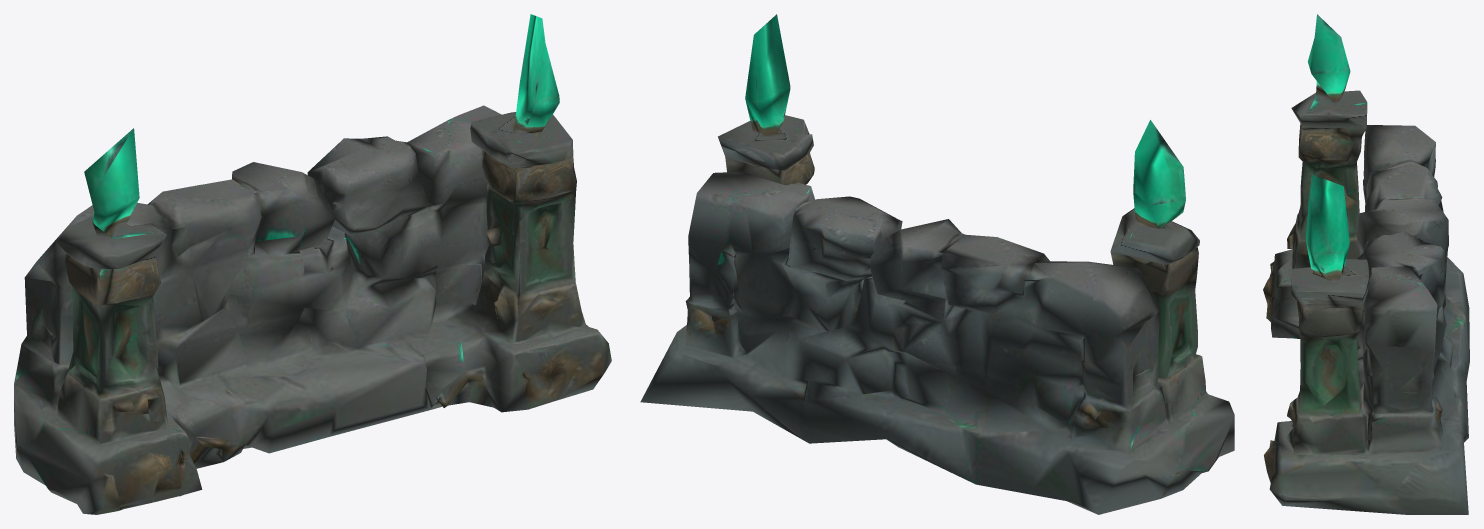
Rendered from barrier.glb.
3 renders of one model, left to right at view 1: azimuth 30°, elevation 25°; view 2: azimuth 150°, elevation 25°; view 3: azimuth 270°, elevation 25°, orthographic. The views are drawn at different scales.
Size of the model in its own units: 1.9 by 1.25 by 0.7357.
Materials: 1 (1 with a texture image).
